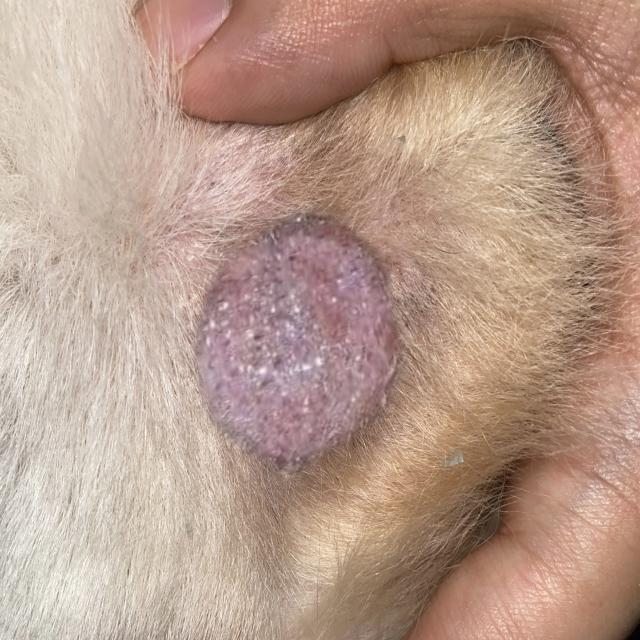ringworm: (186, 179, 418, 453)
